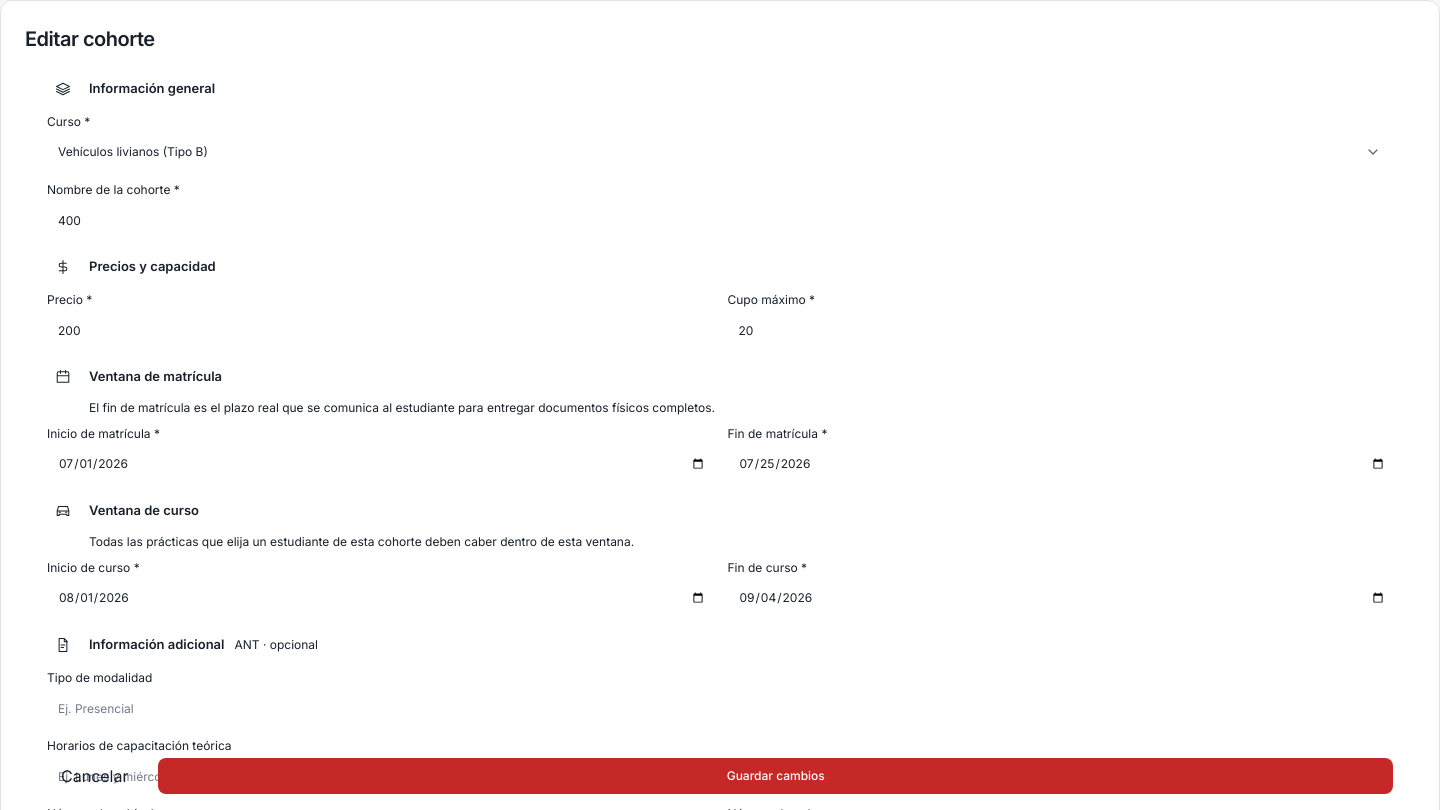
Test: EditCohortPage › conflicto de versión (409) y recarga › un 400 de validación normal no ofrece recargar
The width and height of the screenshot is (1440, 810).
Expected: the field labelled "Nombre de la cohorte" is shown, left=47, top=203, right=1393, bottom=237
Type "Presencial" into the field labelled "Tipo de modalidad" at x=720, y=708, box left=47, top=691, right=1393, bottom=725
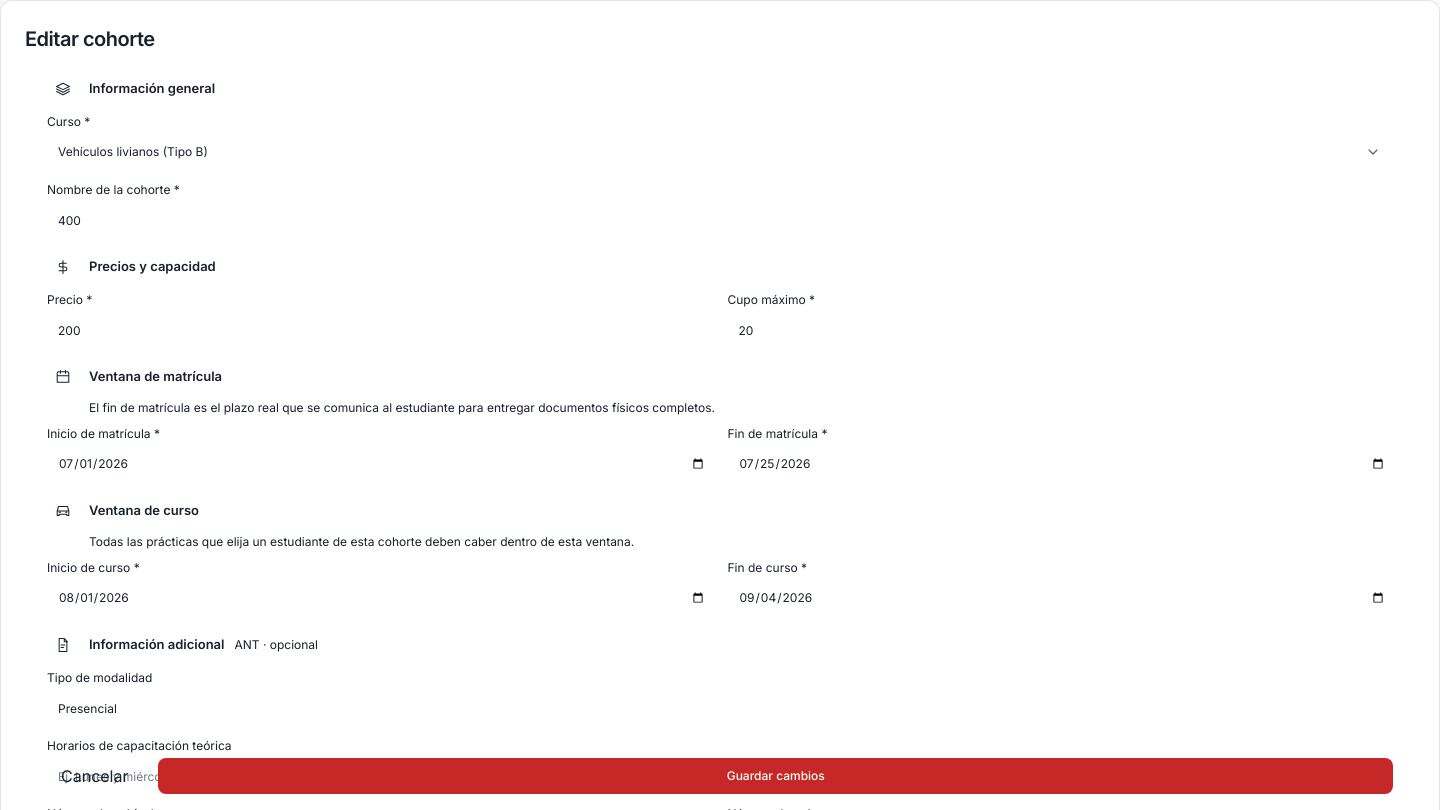
Click the button "Guardar cambios" at x=776, y=776, box left=158, top=758, right=1393, bottom=794
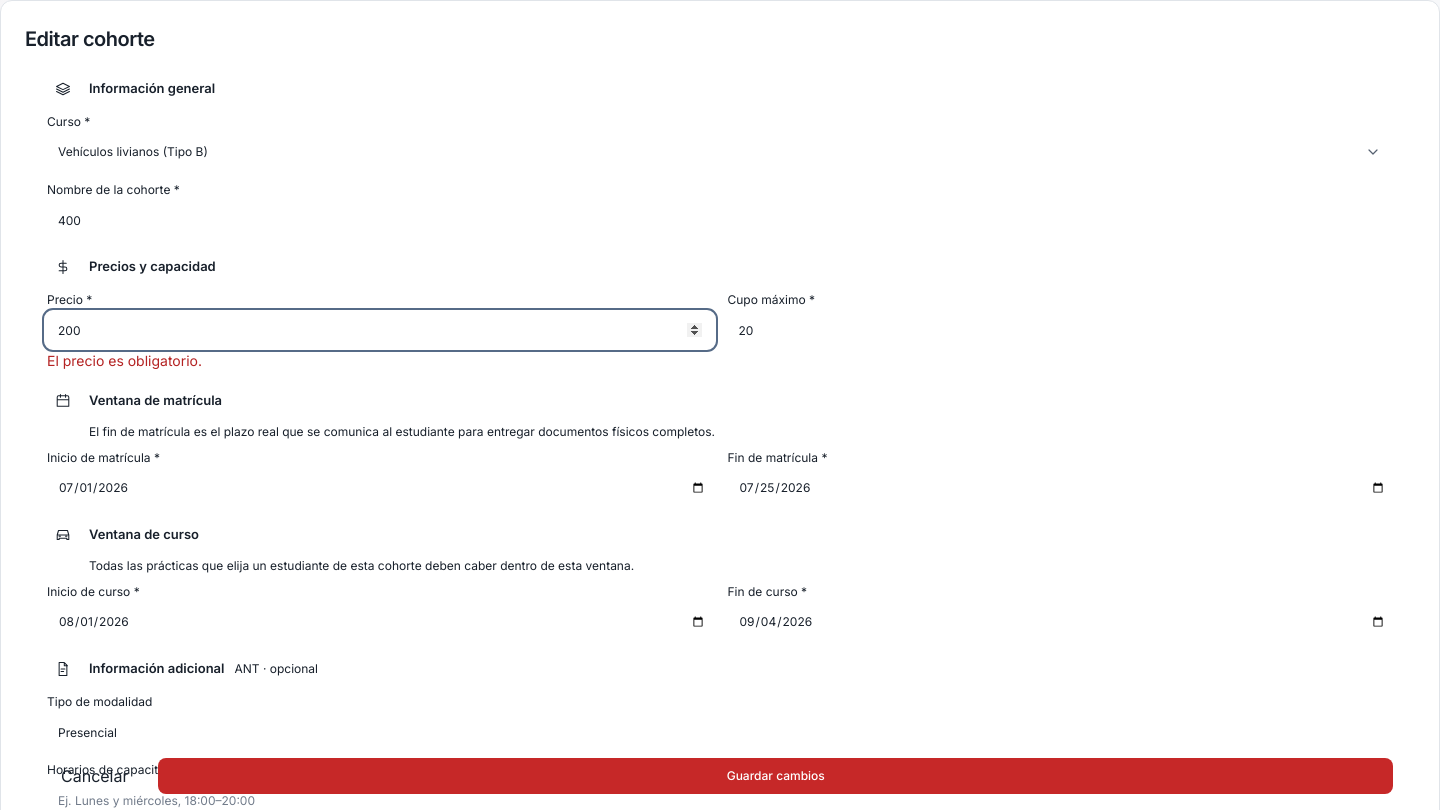
Expected: the message "El precio es obligatorio." is shown, left=47, top=352, right=202, bottom=369
